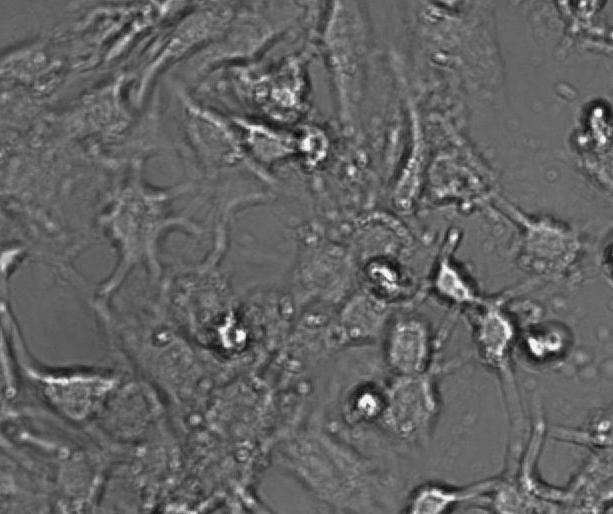Dead: (234, 58, 323, 123), (420, 228, 491, 307), (464, 293, 522, 375), (352, 247, 428, 307), (563, 90, 613, 173), (192, 304, 261, 361), (327, 377, 394, 430), (516, 318, 580, 369), (289, 121, 337, 176)
